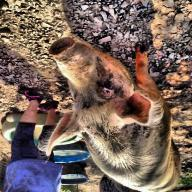boar: (37, 36, 182, 192)
